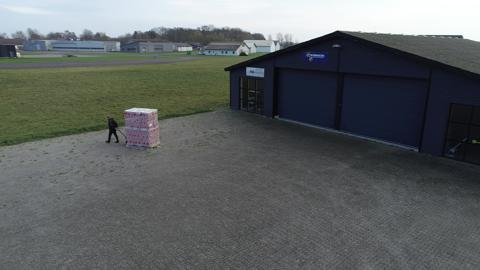RockwoolPallet: (123, 107, 162, 150)
